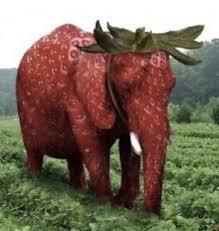strawberry-elephant: (21, 25, 204, 215)
